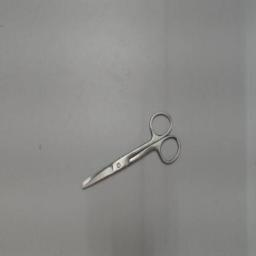Dressing Scissors: (74, 106, 186, 198)
